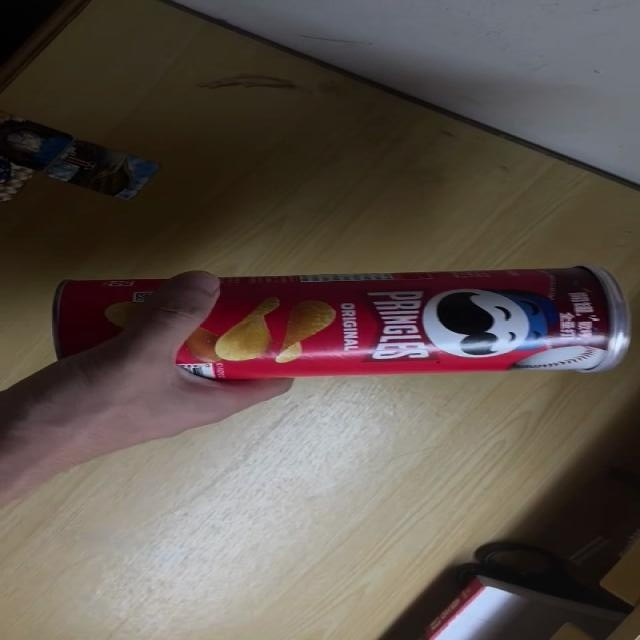Pringles: (49, 266, 630, 390)
